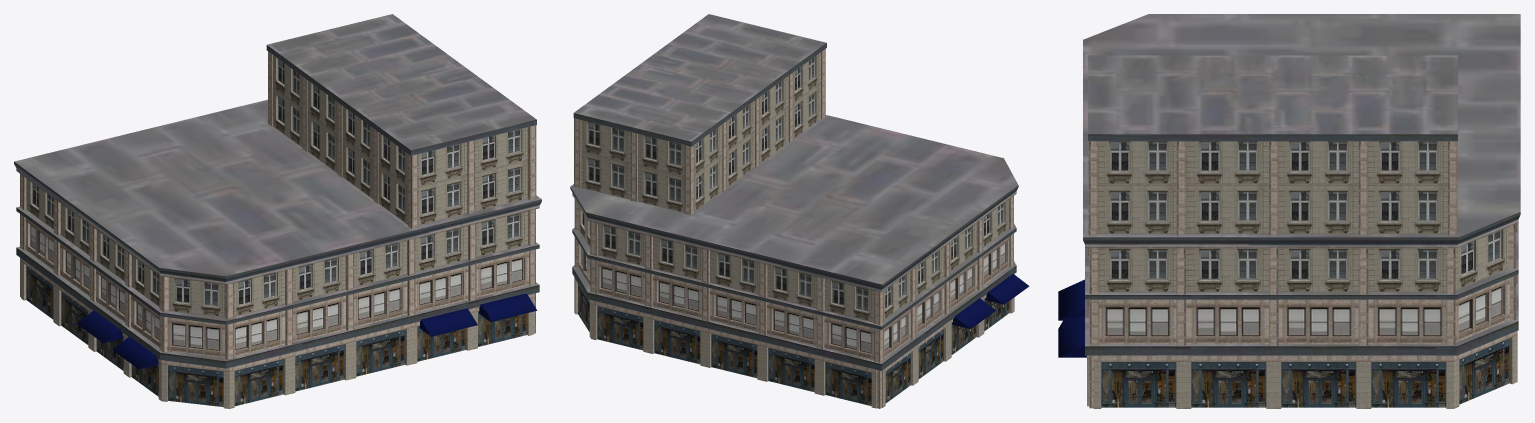
Rendered from game_ready_building_5.glb.
The picture shows the model from 3 angles, left to right: view 1: azimuth 30°, elevation 25°; view 2: azimuth 150°, elevation 25°; view 3: azimuth 270°, elevation 25°; orthographic projection. The views are drawn at different scales.
Parts seen in each view (by area): view 1: Plane.065_atlas.004_0; view 2: Plane.065_atlas.004_0; view 3: Plane.065_atlas.004_0.
Boxes of the visible parts, <box> form: Plane.065_atlas.004_0: <box>14,14,541,408</box>; Plane.065_atlas.004_0: <box>570,14,1029,408</box>; Plane.065_atlas.004_0: <box>1058,14,1520,408</box>.
Bounding box in the file's own units: 0.3034 × 0.1661 × 0.2538.
Materials: 1 (1 with a texture image).
